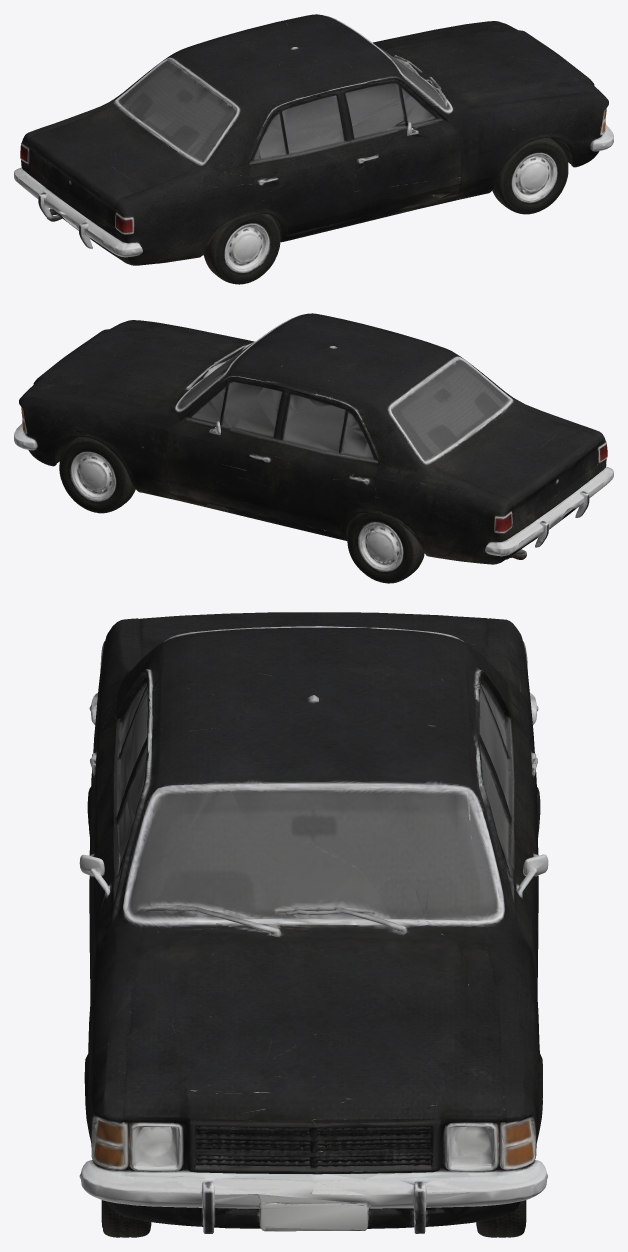
File: gaucho-v8__01a16982.glb
The picture shows the model from 3 angles, top to bottom: view 1: azimuth 30°, elevation 25°; view 2: azimuth 150°, elevation 25°; view 3: azimuth 270°, elevation 25°; orthographic projection. The views are drawn at different scales.
Visible parts, largest first — view 1: gaucho-v8__01a16982; view 2: gaucho-v8__01a16982; view 3: gaucho-v8__01a16982.
Part boxes in pixels (x1,y1,x2,y2): gaucho-v8__01a16982: [14, 14, 613, 284]; gaucho-v8__01a16982: [14, 313, 613, 583]; gaucho-v8__01a16982: [79, 612, 548, 1237].
Bounding box in the file's own units: 4.57 × 1.5 × 1.82.
1 material, 1 textured.
